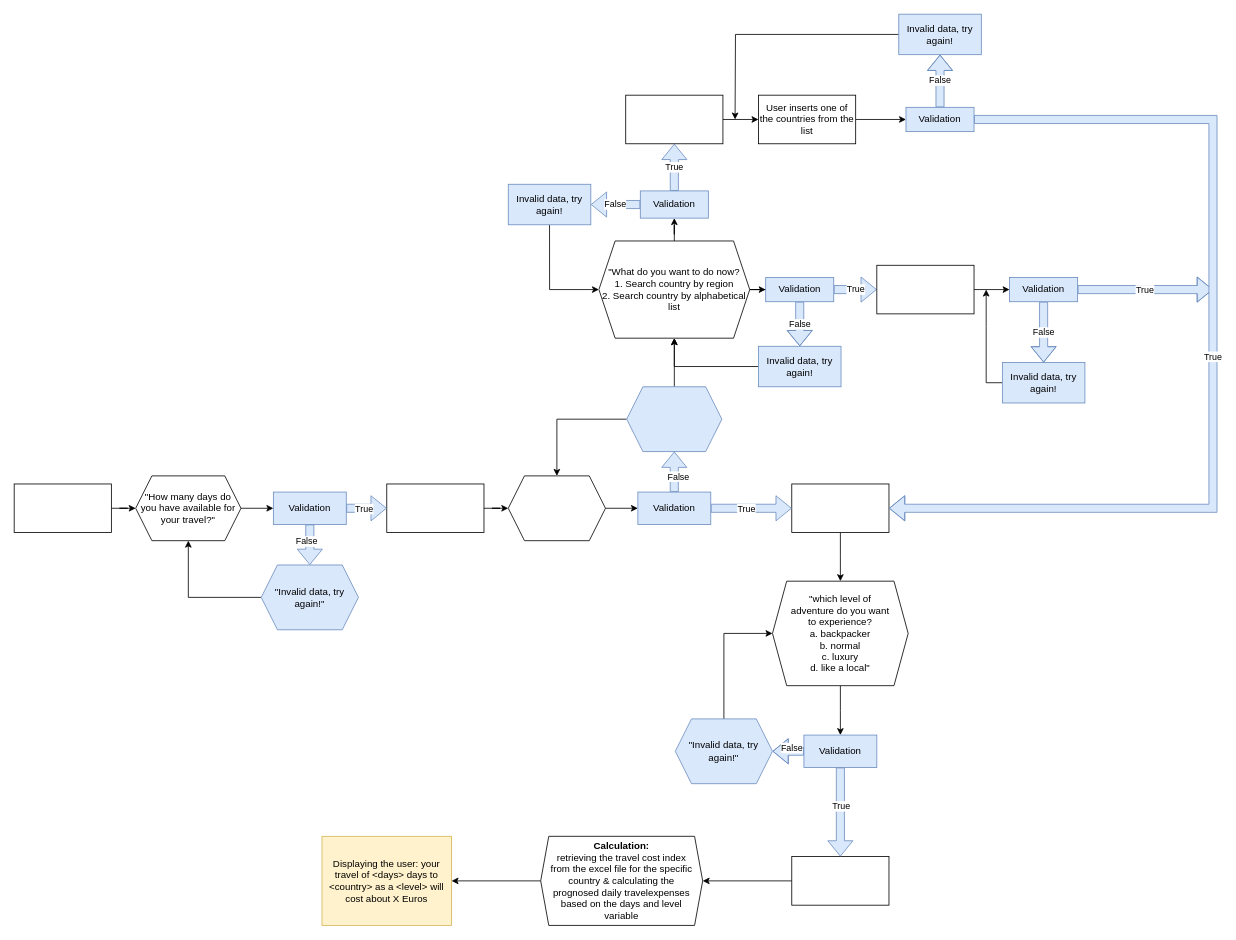
This 1236x940 diagram has some shape labels left out. Here are the shapes that lost their labels. From the top down, the centre of each, then its label:
the point at 674,119: User inserts 2: List of all available countries is shown
the point at 925,289: User inserts 1: List of all available regions is shown
the point at 674,419: "This country does not exist in my database."
the point at 62,508: User is greeted from the programme ("Hey, nice you are here")
the point at 435,508: saving available days as a variable
the point at 556,508: "To which country do you want to go?"
the point at 840,508: saving country as a variable
the point at 840,880: saving level as a variable
